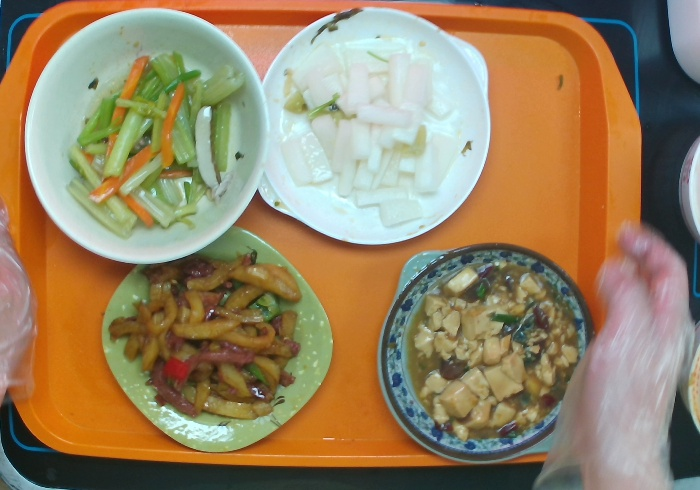NLDX-Bai_Se_Shuang_Er_Die: (257, 4, 494, 246)
NLDX-Bai_Se_Yuan_Wan: (24, 5, 272, 267)
NLDX-Lv_Hua_Fang_Die: (100, 223, 334, 454)
NLDX-Qing_Hua_Shuang_Er_Die: (374, 241, 597, 466)
